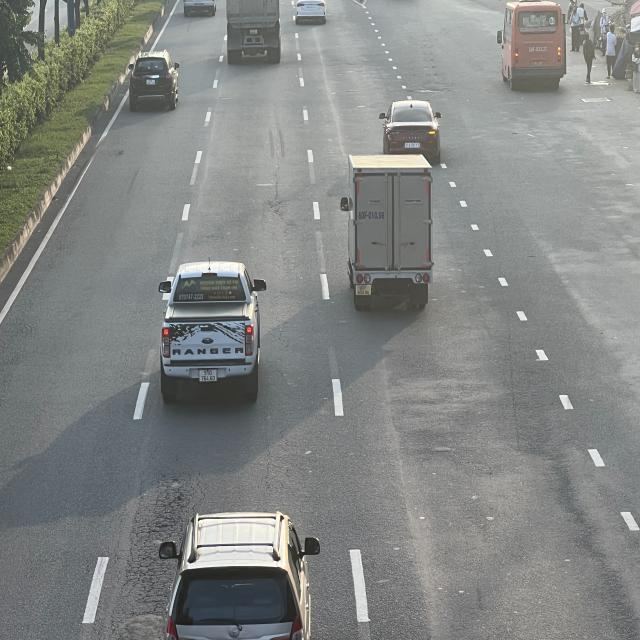car: (163, 509, 316, 638), (158, 264, 268, 404), (382, 101, 445, 164), (126, 52, 179, 109)
container: (223, 0, 280, 60)
truck: (339, 154, 431, 307)
van: (502, 0, 570, 88)
